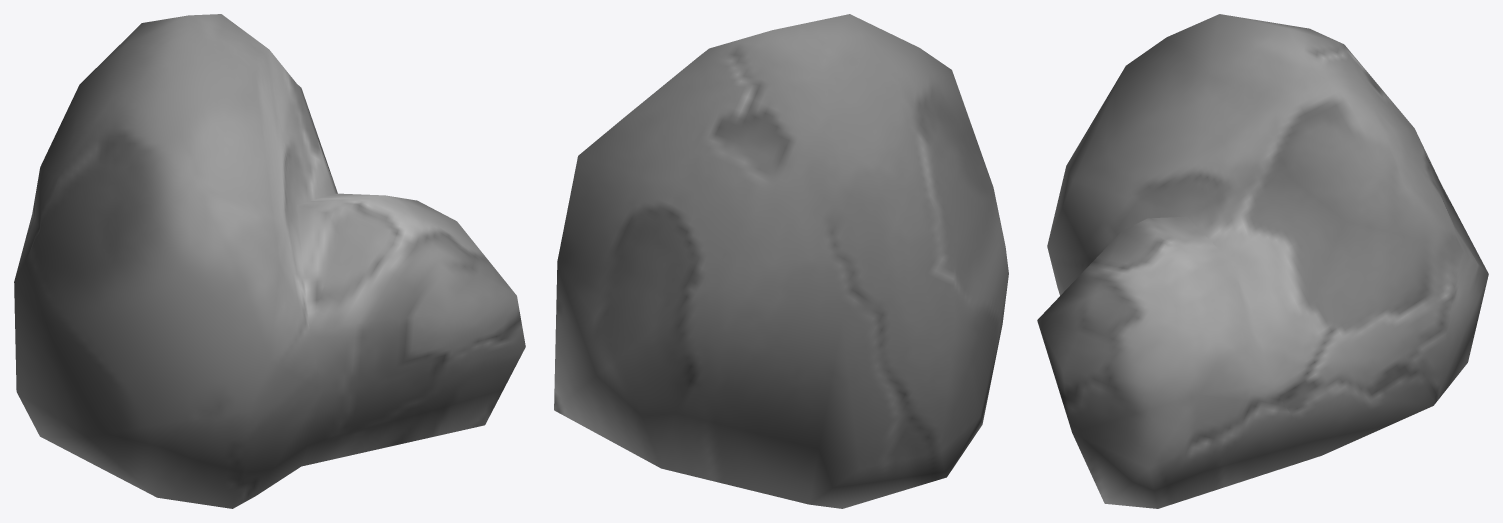
The model's file is Rock_4.fbx.
3 views of the same model, side by side, from view 1: azimuth 30°, elevation 25°; view 2: azimuth 150°, elevation 25°; view 3: azimuth 270°, elevation 25° (orthographic). The views are drawn at different scales.
Parts seen in each view (by area): view 1: Rock_4; view 2: Rock_4; view 3: Rock_4.
Boxes of the visible parts, box(x1,y1,x2,y2) form: Rock_4: box(14, 14, 525, 508); Rock_4: box(554, 14, 1008, 508); Rock_4: box(1037, 14, 1488, 508).
Size of the model in its own units: 56.91 by 56.39 by 56.13.
